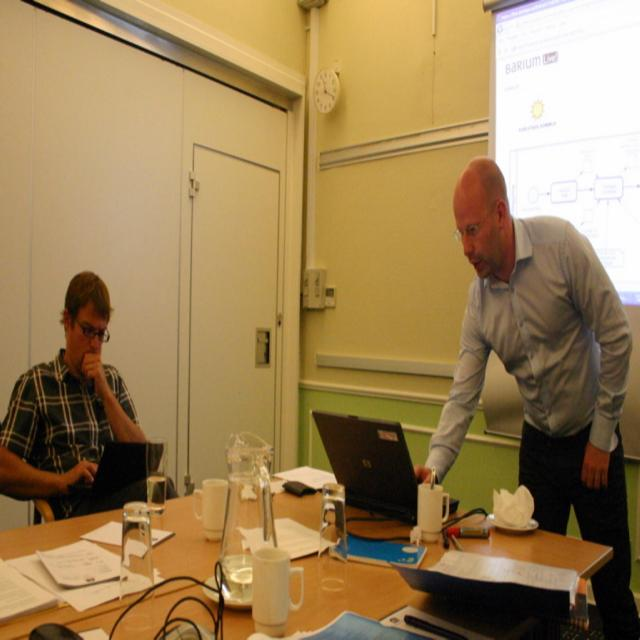desk: (4, 481, 611, 639)
laptop: (311, 409, 436, 526), (42, 440, 162, 520)
person: (412, 155, 636, 627), (0, 270, 144, 523)
